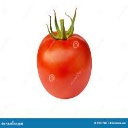tomato: (37, 31, 92, 100)
